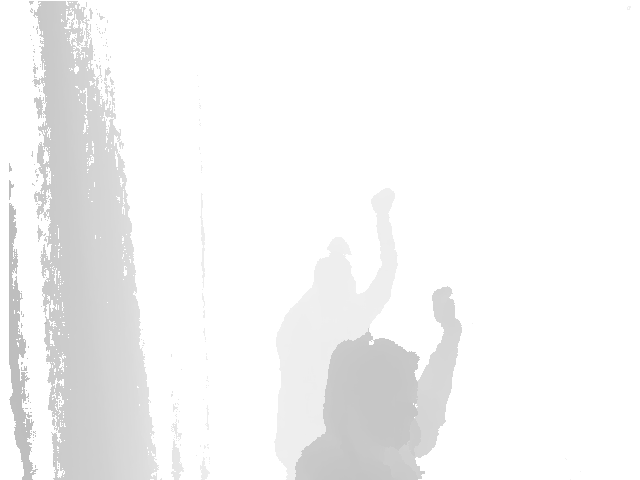hand: (431, 286, 458, 321), (371, 187, 394, 213)
head: (321, 332, 419, 450), (313, 238, 352, 306)
person: (273, 187, 399, 479), (293, 286, 463, 480)
